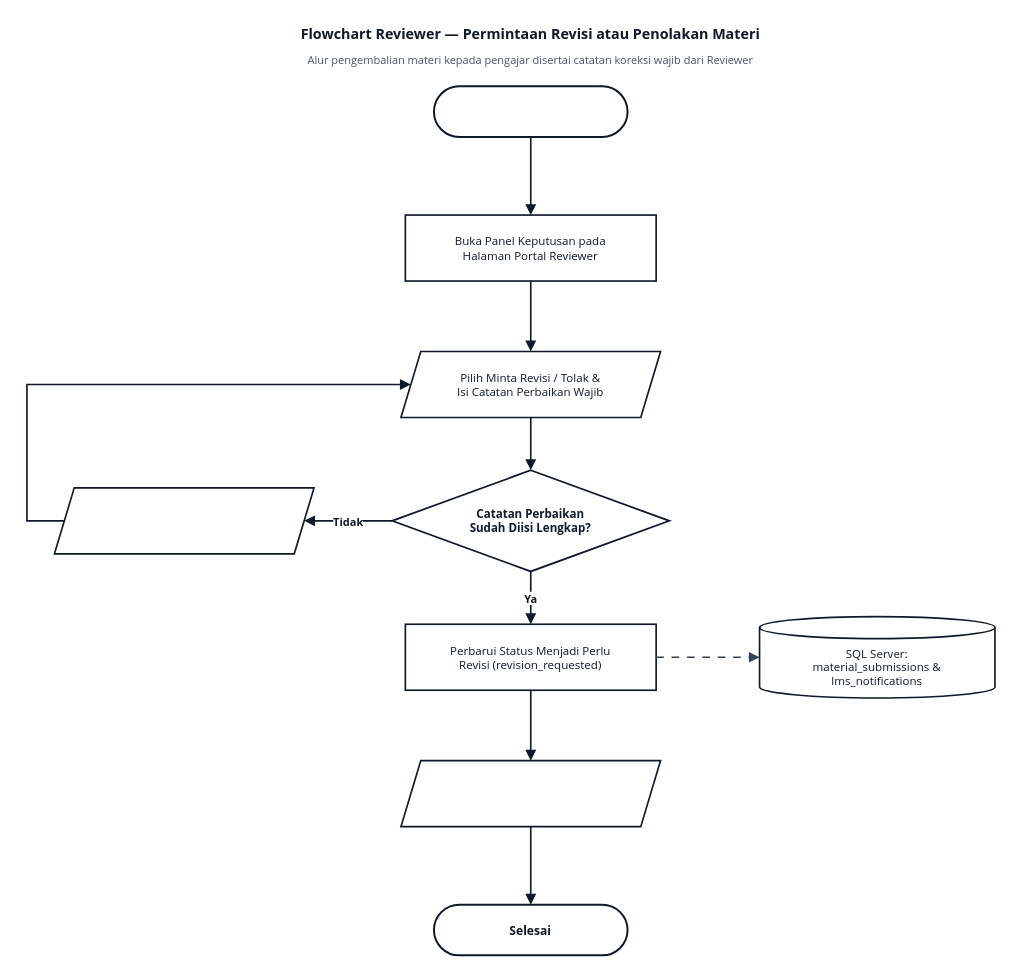
Some shapes in this 1015 by 975 pixel diagram are drawn without their labels. Each missing label, with the centre of its shape:
Kirim Catatan Revisi ke Pengajar & Tampilkan StatusTerkirim: the point at 530,793
Mulai: the point at 530,111
Tampilkan Peringatan Catatan Evaluasi Wajib Diisi: the point at 183,520
